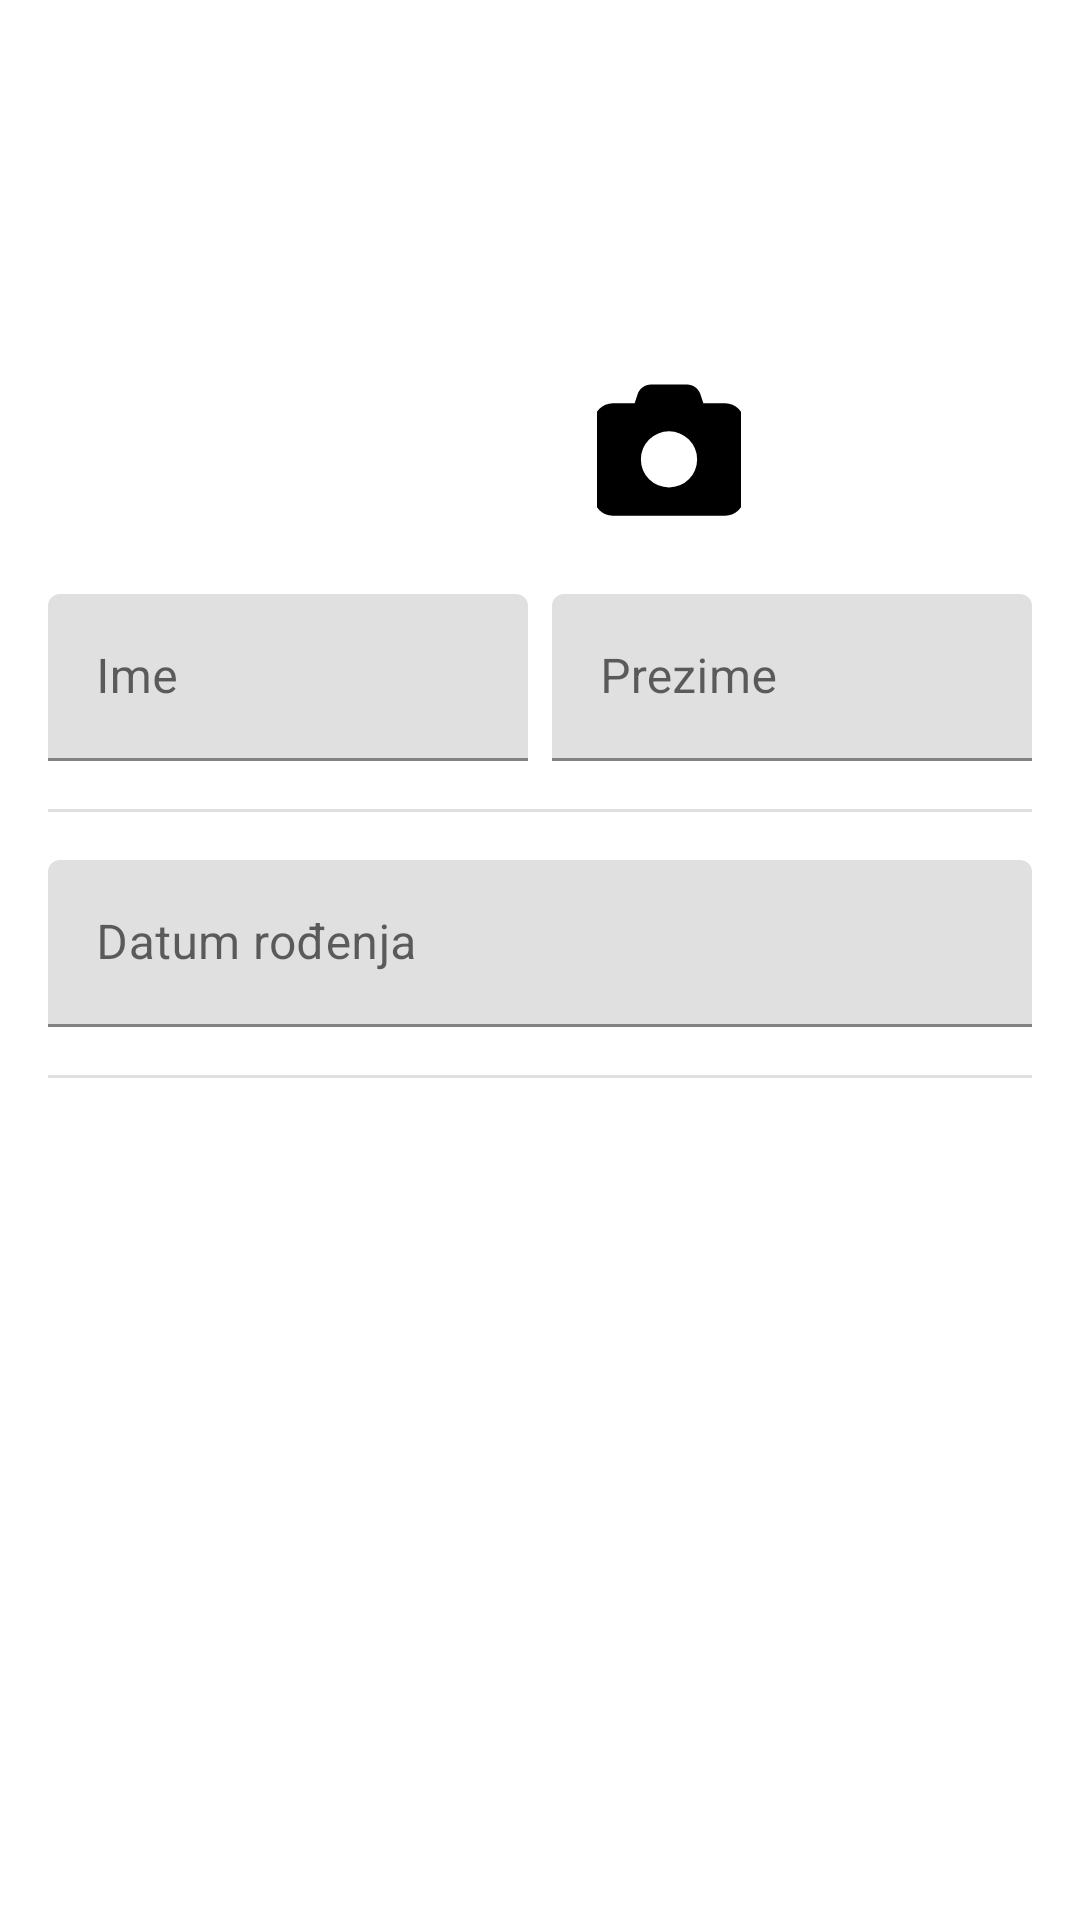

Screen size 1080*1920. Icon name, then its center in pixels as [x,y]:
Capture Image: [669,450]
